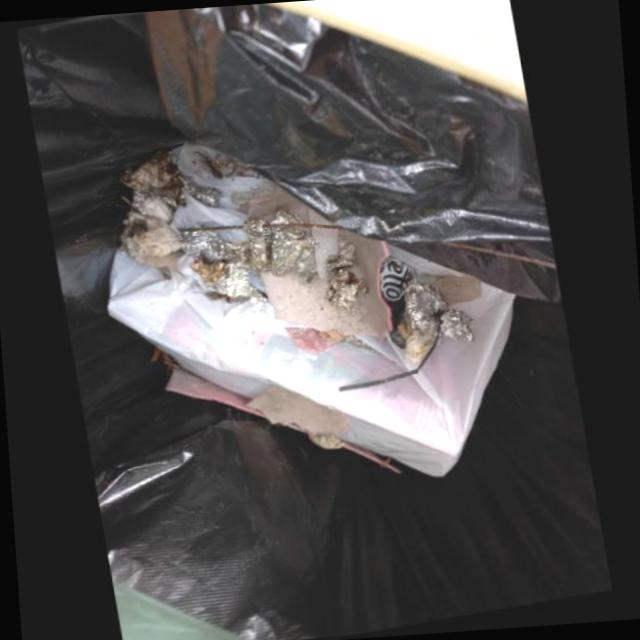nhom: (389, 286, 474, 368), (185, 231, 267, 315), (244, 208, 318, 280), (117, 152, 186, 225), (327, 244, 369, 315)
tui_ni_long: (110, 248, 510, 480)
